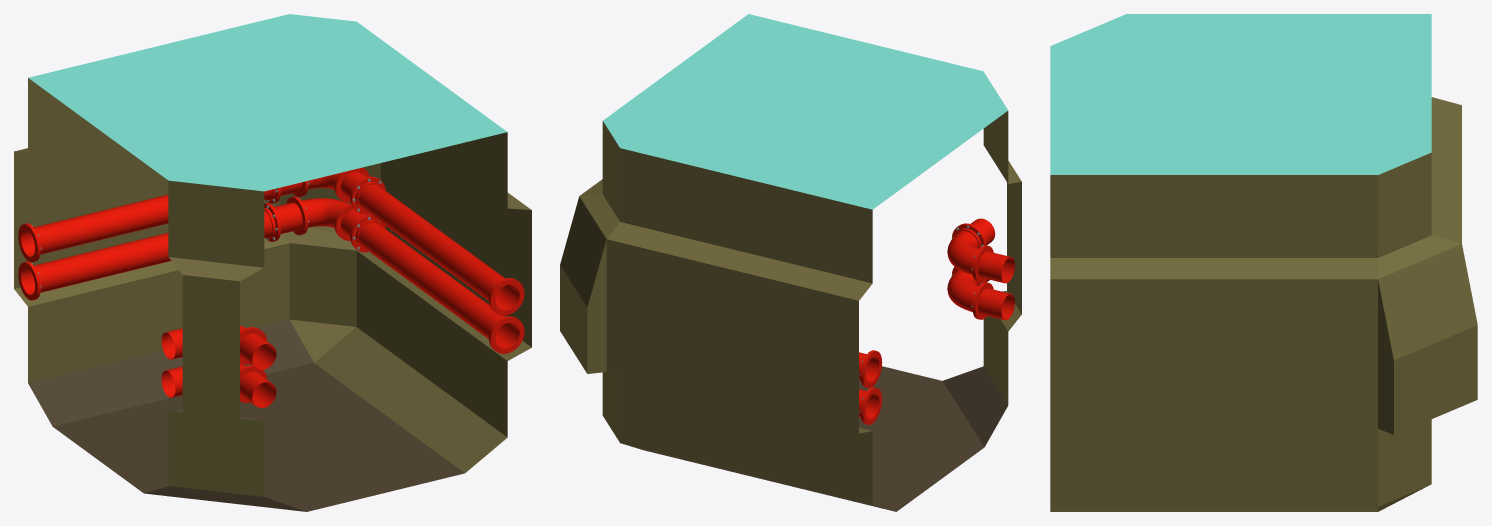
File: Corner_Straight_.fbx
The picture shows the model from 3 angles, left to right: view 1: azimuth 30°, elevation 25°; view 2: azimuth 150°, elevation 25°; view 3: azimuth 270°, elevation 25°; orthographic projection. The views are drawn at different scales.
Parts seen in each view (by area): view 1: Corner_Straight_, Pipe_200_Straight_1m.022, Pipe_200_Straight_1m.024, Pipe_200_Straight_1m.023, Pipe_200_Straight_1m.021, Pipe_200_Corner.016, Pipe_200_Corner.013, Pipe_200_Corner.014, Pipe_200_Corner.015; view 2: Corner_Straight_, Pipe_200_Corner.013, Pipe_200_Corner.014, Pipe_200_Straight_1m.023, Pipe_200_Straight_1m.021; view 3: Corner_Straight_.
Part boxes in pixels (box(x1,y1,x2,y2)): Corner_Straight_: box(14, 14, 531, 511); Pipe_200_Straight_1m.022: box(350, 176, 524, 315); Pipe_200_Straight_1m.024: box(350, 214, 524, 353); Pipe_200_Straight_1m.023: box(18, 203, 280, 300); Pipe_200_Straight_1m.021: box(18, 187, 280, 262); Pipe_200_Corner.016: box(274, 196, 369, 240); Pipe_200_Corner.013: box(161, 325, 276, 369); Pipe_200_Corner.014: box(161, 363, 276, 407); Pipe_200_Corner.015: box(280, 167, 369, 202); Corner_Straight_: box(560, 14, 1021, 511); Pipe_200_Corner.013: box(947, 218, 1014, 283); Pipe_200_Corner.014: box(947, 267, 1014, 320); Pipe_200_Straight_1m.023: box(859, 387, 882, 424); Pipe_200_Straight_1m.021: box(859, 350, 882, 387); Corner_Straight_: box(1050, 14, 1477, 511).
Bounding box in the file's own units: 2.8 × 2.6 × 2.8.
